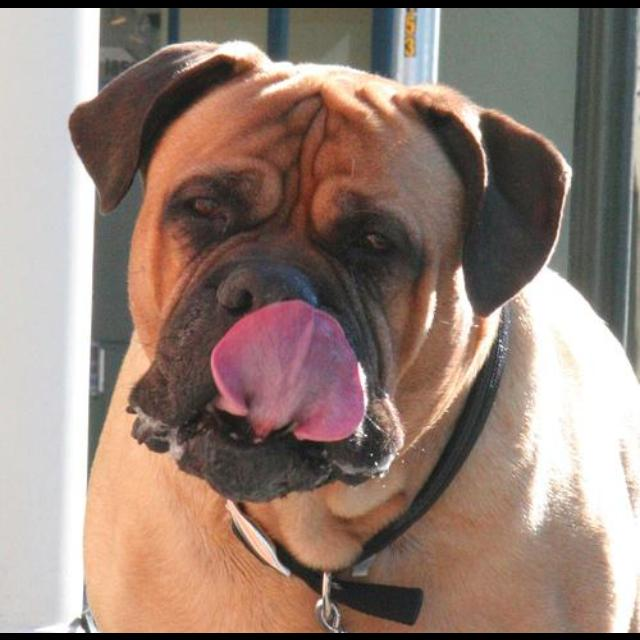bullmastiff: (68, 38, 640, 633)
